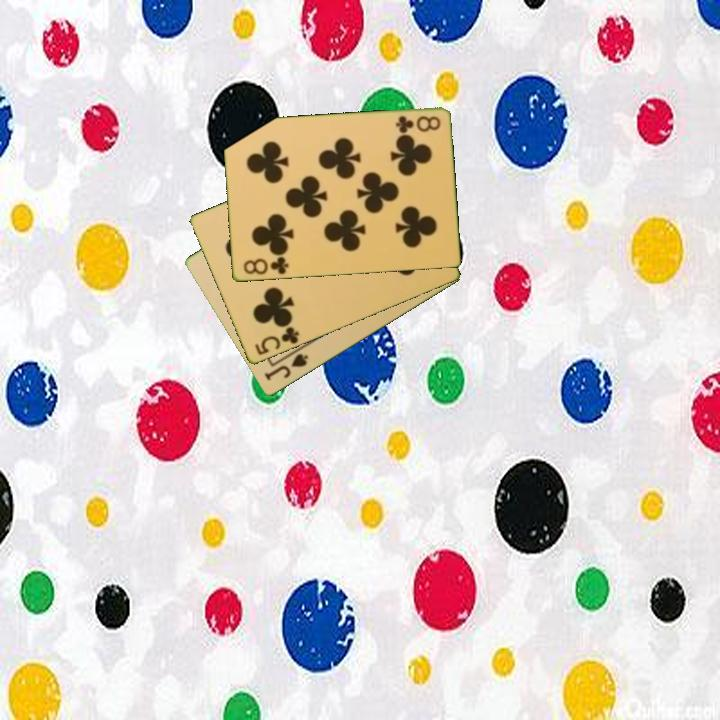5c: (251, 323, 302, 359)
8c: (240, 253, 291, 278), (392, 113, 443, 135)
Js: (261, 350, 311, 384)
